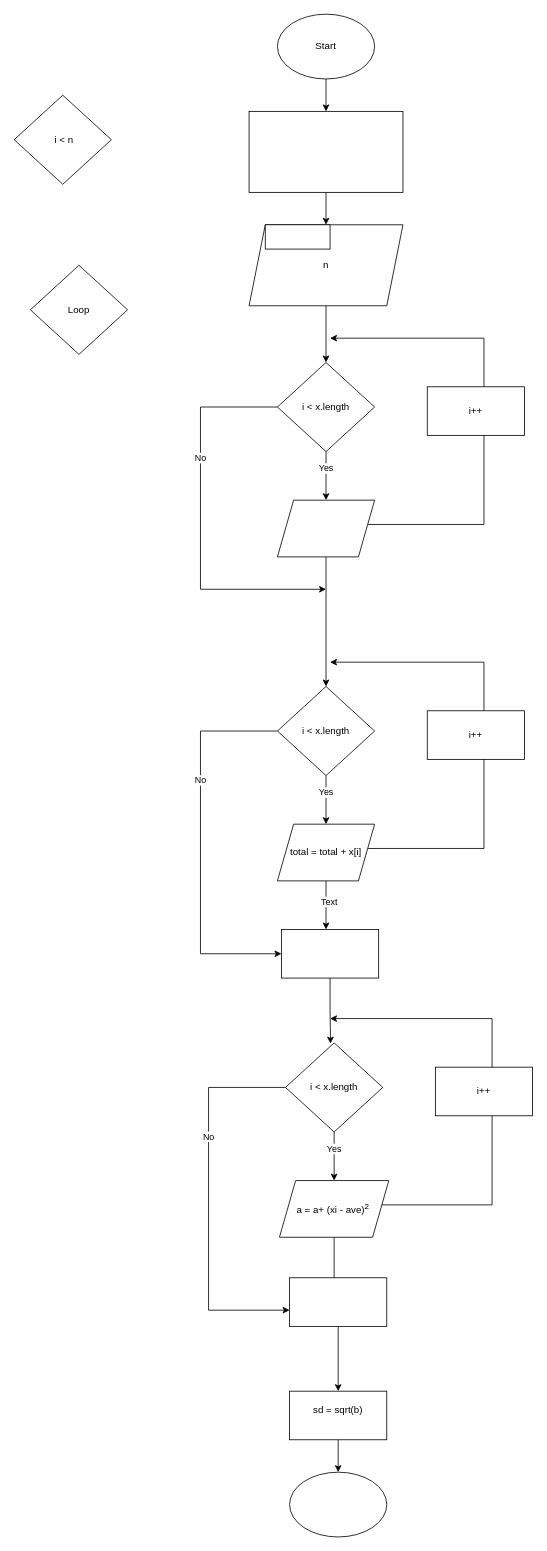
Image size: 547x1551. Some labels were removed from this diagram. Each missing label, with the centre of its shape:
ave = total / n: pixel 330 953
b = a / n: pixel 338 1301
End: pixel 338 1504
Write: pixel 297 236
x = [] i,n,a,b,ave,sd,total = 0: pixel 325 151
x i: pixel 326 528
